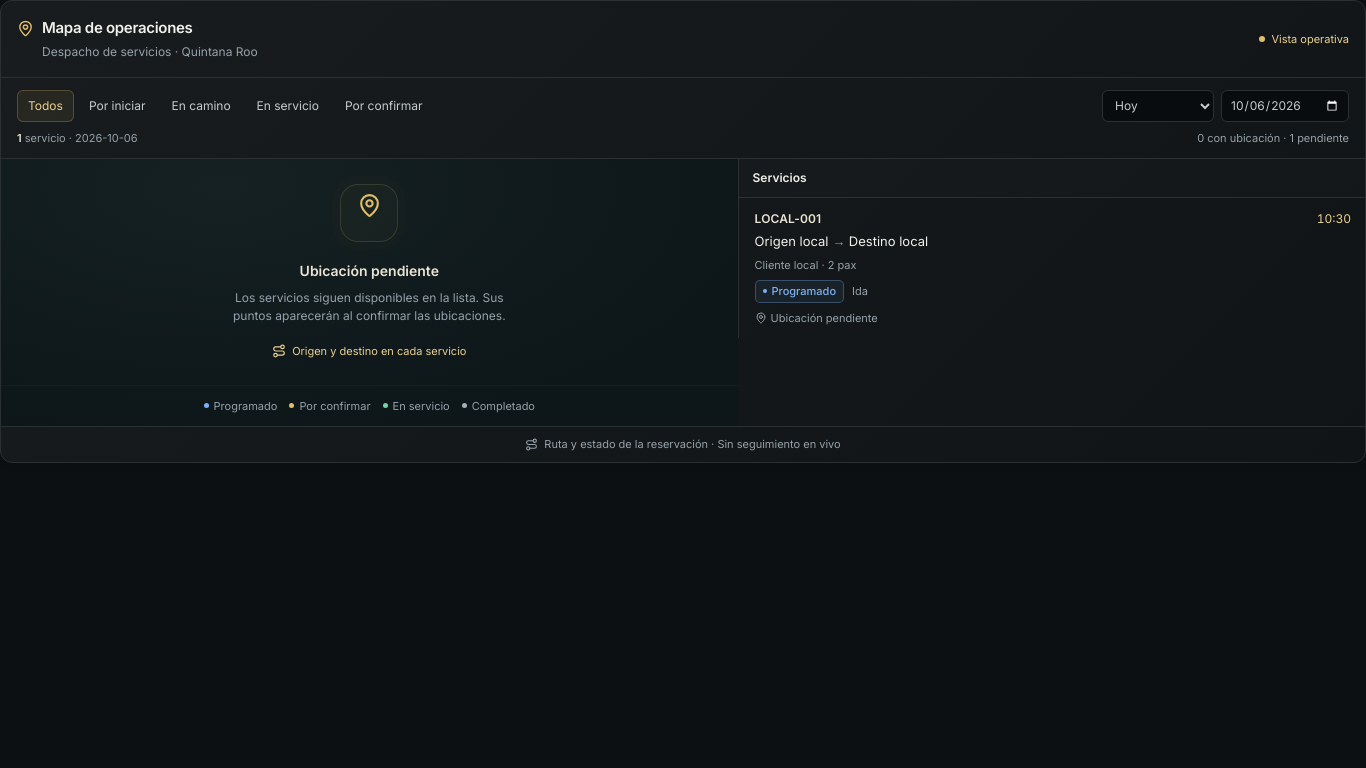
Test case: Mapa de operaciones con datos aislados › un error de actualización conserva el diálogo y no muestra éxito
Step 1. Click the button with aria-label "LOCAL-001 · Ida" → (788, 218), box top-left (739, 198), bottom-right (1365, 338)
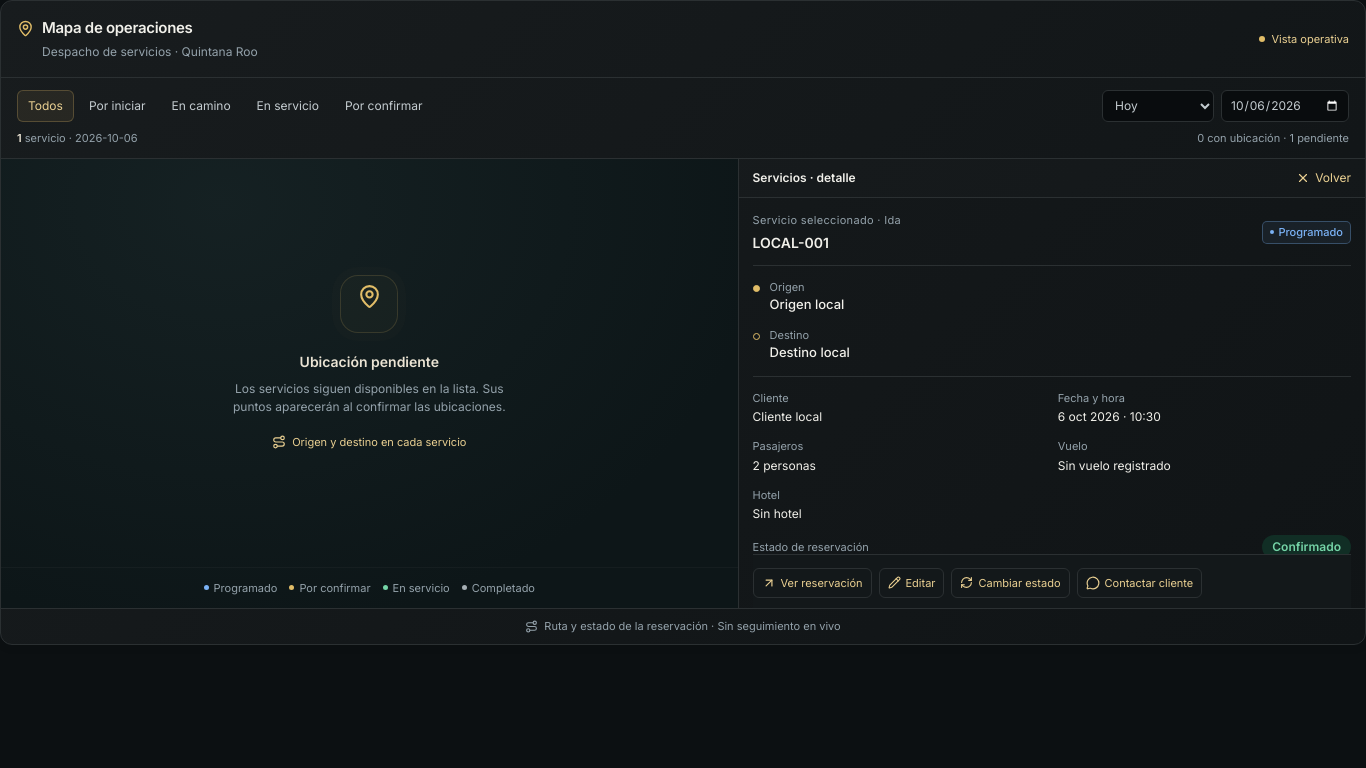
Step 2. Click the button "Cambiar estado" → (1010, 583), box top-left (952, 568), bottom-right (1070, 598)
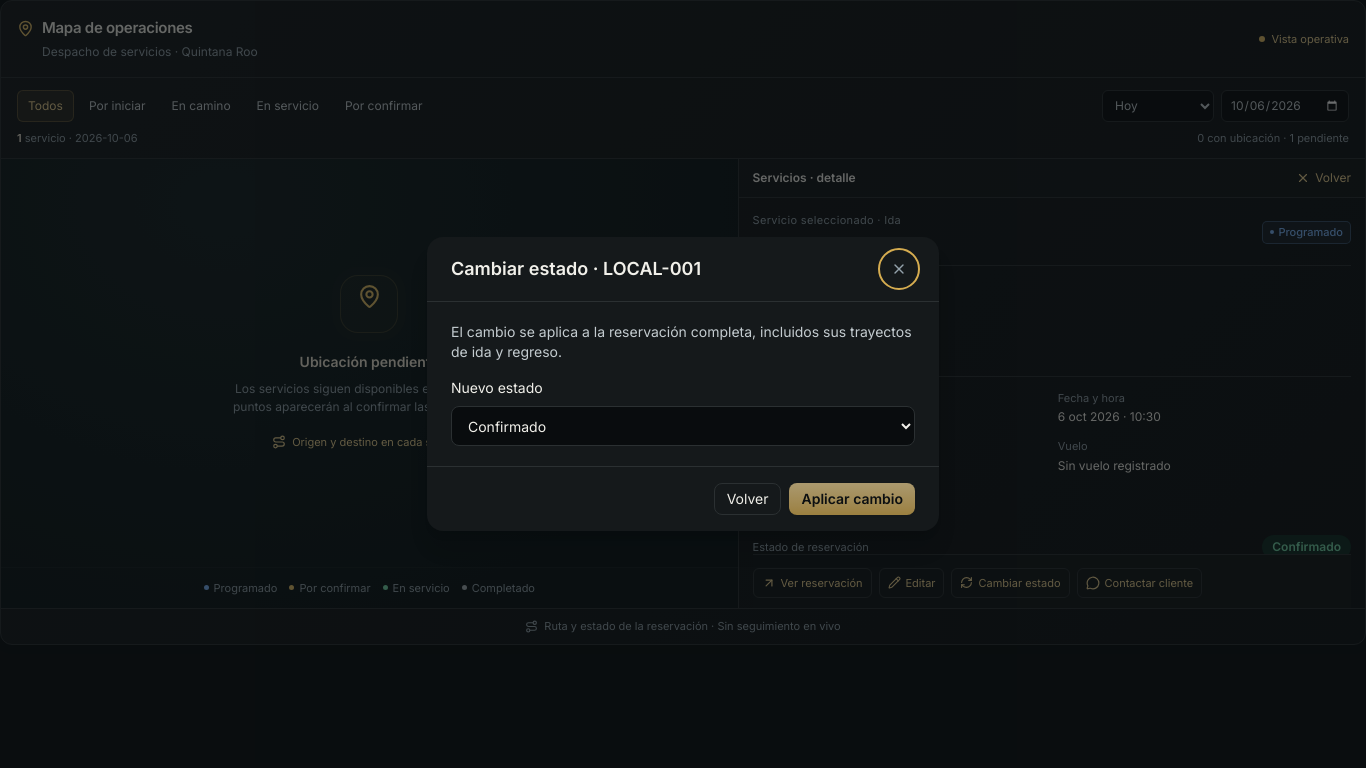
Step 3. Select "Completado" in the dropdown labelled "Nuevo estado" → (683, 426), box top-left (451, 406), bottom-right (915, 446)
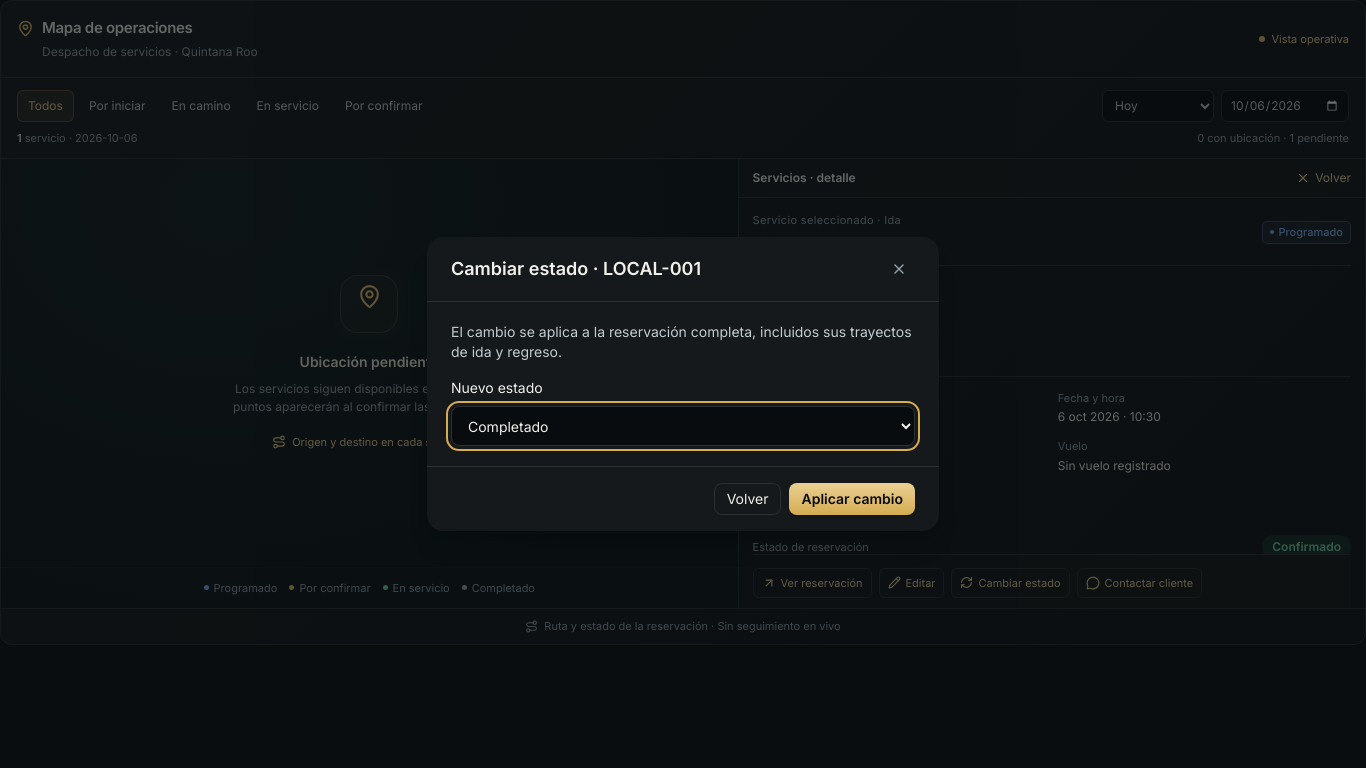
Step 4. Click the button "Aplicar cambio" → (852, 499), box top-left (790, 483), bottom-right (915, 515)
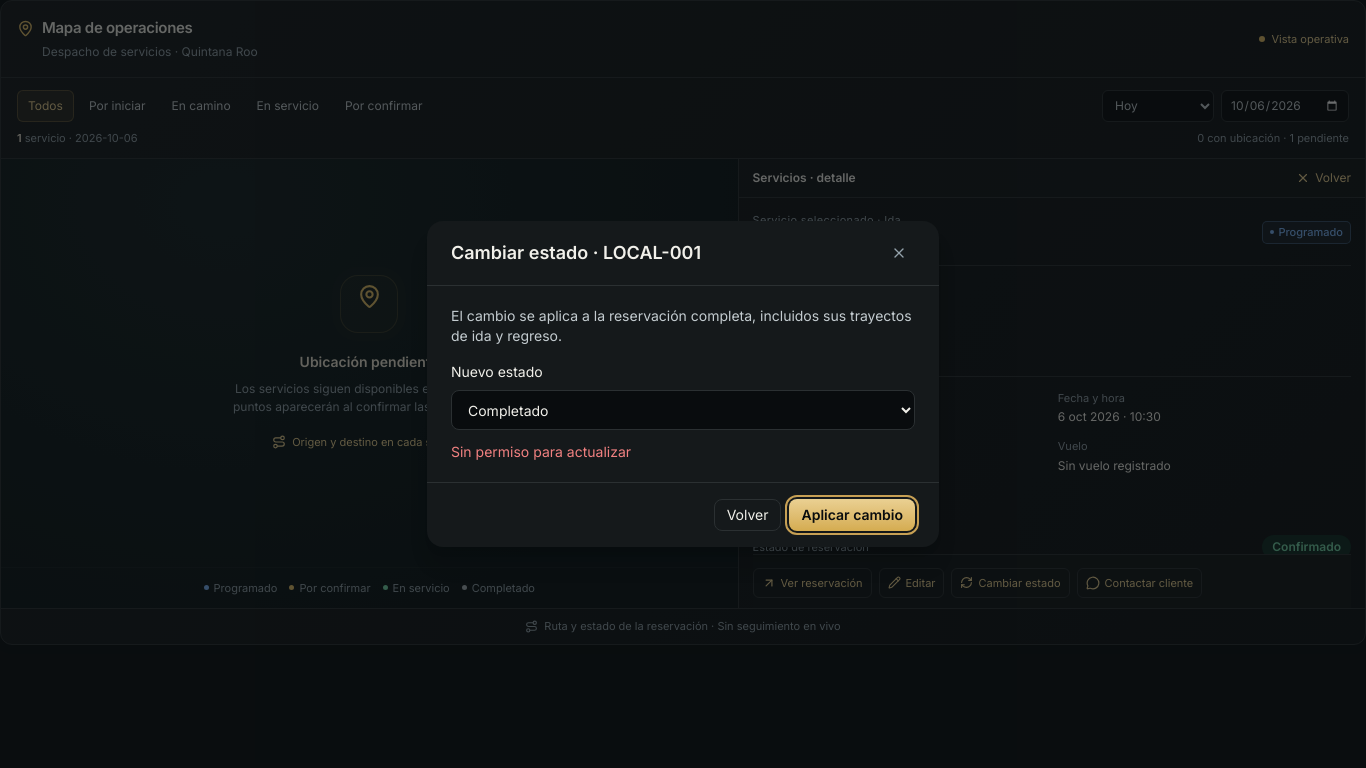
Expected: the dialog is shown, top-left (427, 221), bottom-right (939, 547)
Expected: the message reads "Sin permiso para actualizar", top-left (451, 443), bottom-right (631, 460)
